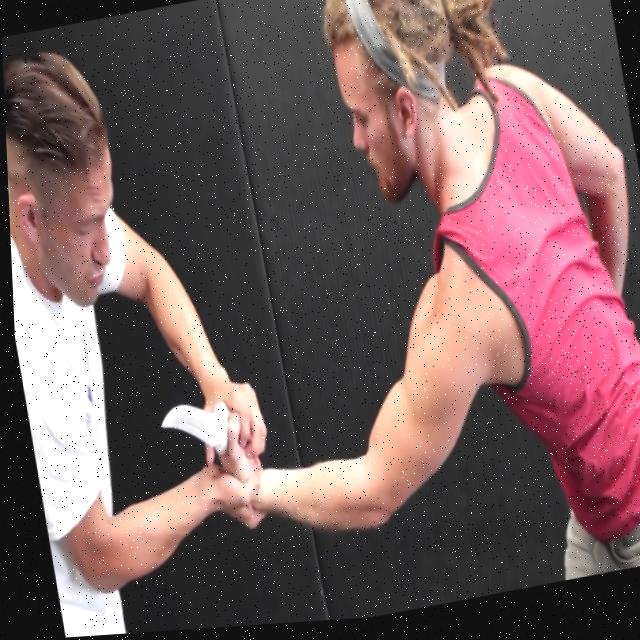knife: (147, 392, 232, 473)
